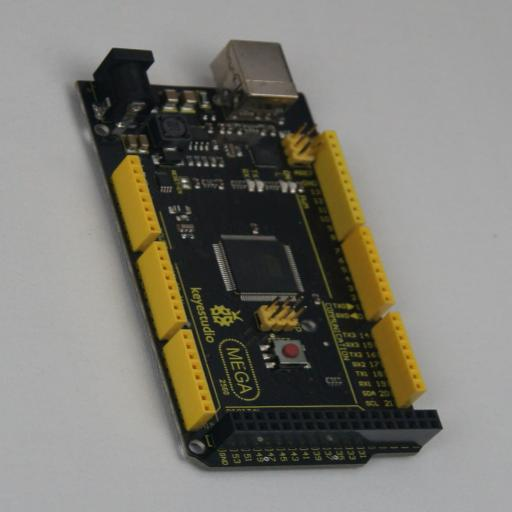Arduino Mega 2560 -Black and Yellow-: (72, 40, 443, 472)
